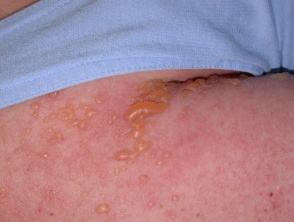SJS-TEN: (0, 68, 294, 222)
